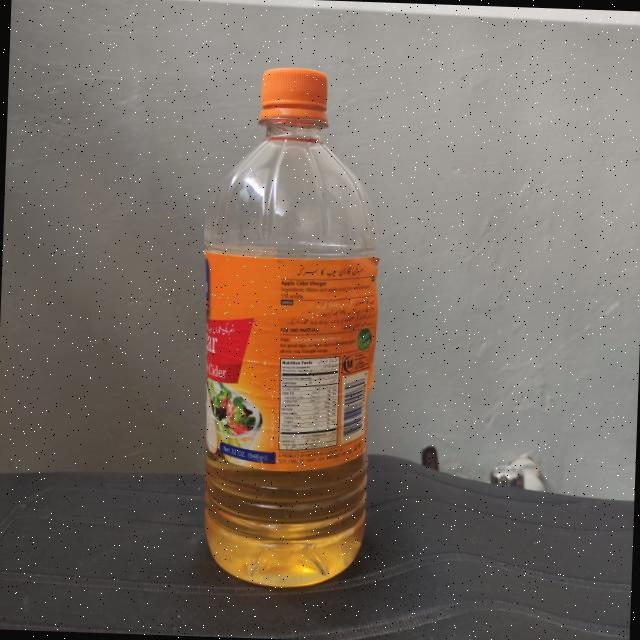bottle: (183, 58, 394, 596)
cap: (254, 65, 334, 131)
label: (196, 249, 384, 480)
